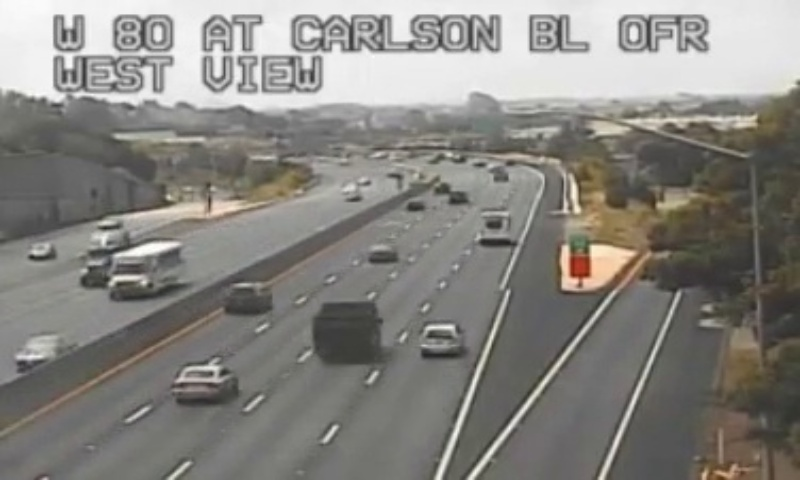bus: (476, 211, 510, 243)
car: (170, 364, 236, 400), (223, 281, 270, 313), (419, 323, 461, 355)
small-truck: (312, 303, 380, 360)
